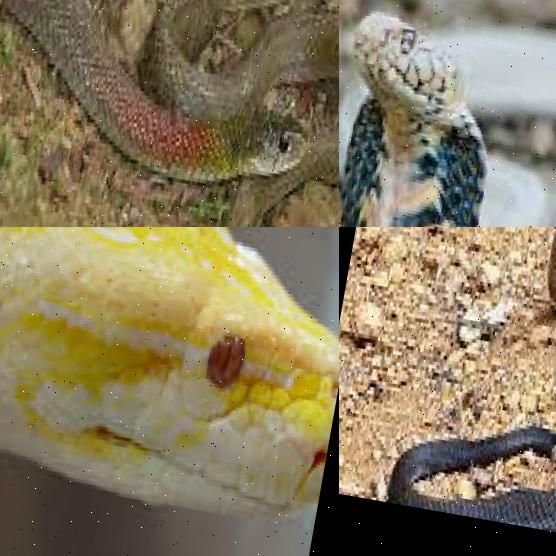snake: (0, 227, 339, 507), (0, 0, 339, 227), (381, 227, 556, 556), (339, 0, 556, 227)
